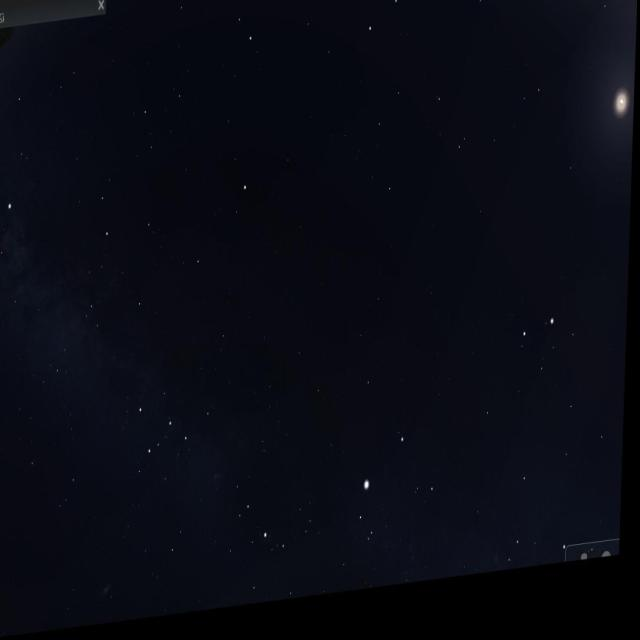cassiopeia: (133, 377, 223, 489)
moon: (600, 72, 636, 177)
